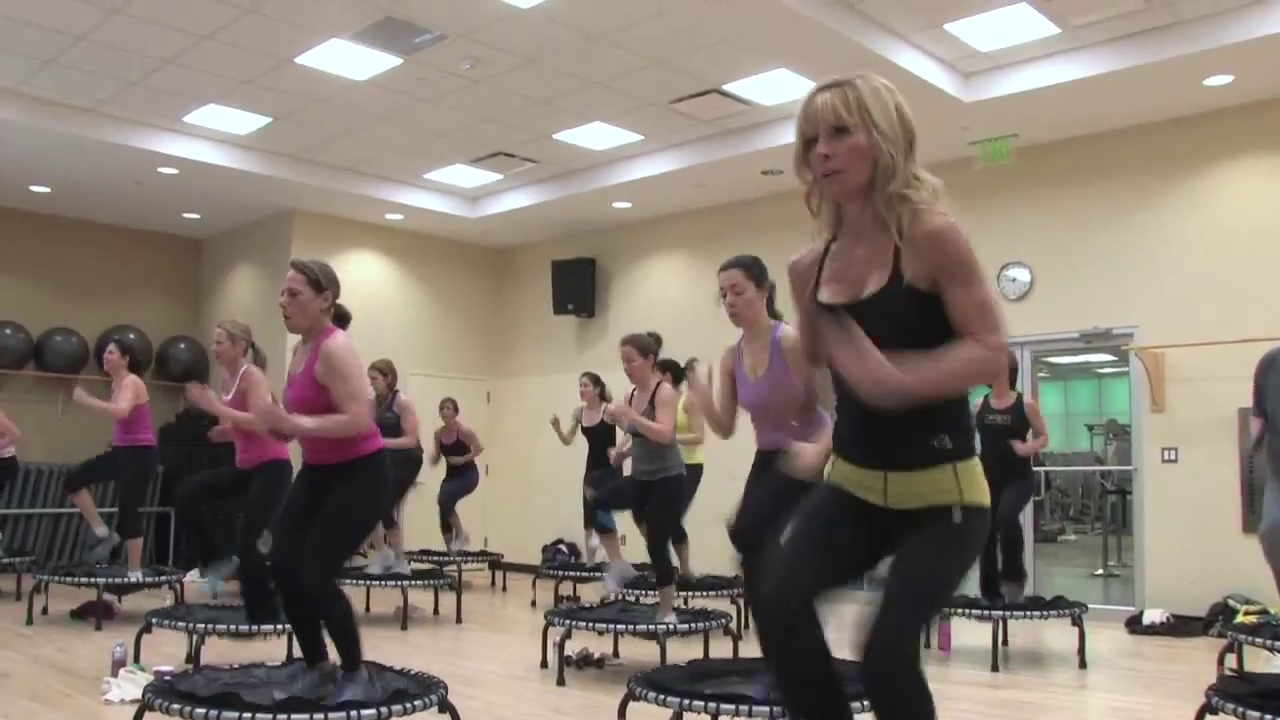person: (753, 74, 1005, 720), (272, 260, 387, 707), (688, 254, 833, 554), (178, 319, 293, 624), (65, 339, 159, 580), (613, 330, 688, 623), (550, 372, 615, 563), (368, 358, 422, 577), (433, 396, 478, 556)
